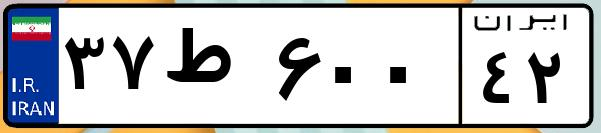0: (385, 28, 445, 110), (330, 28, 385, 110)
2: (525, 38, 570, 115)
3: (57, 26, 110, 100)
4: (475, 38, 525, 113)
6: (270, 28, 330, 110)
7: (110, 28, 158, 98)
ط: (158, 20, 270, 120)
